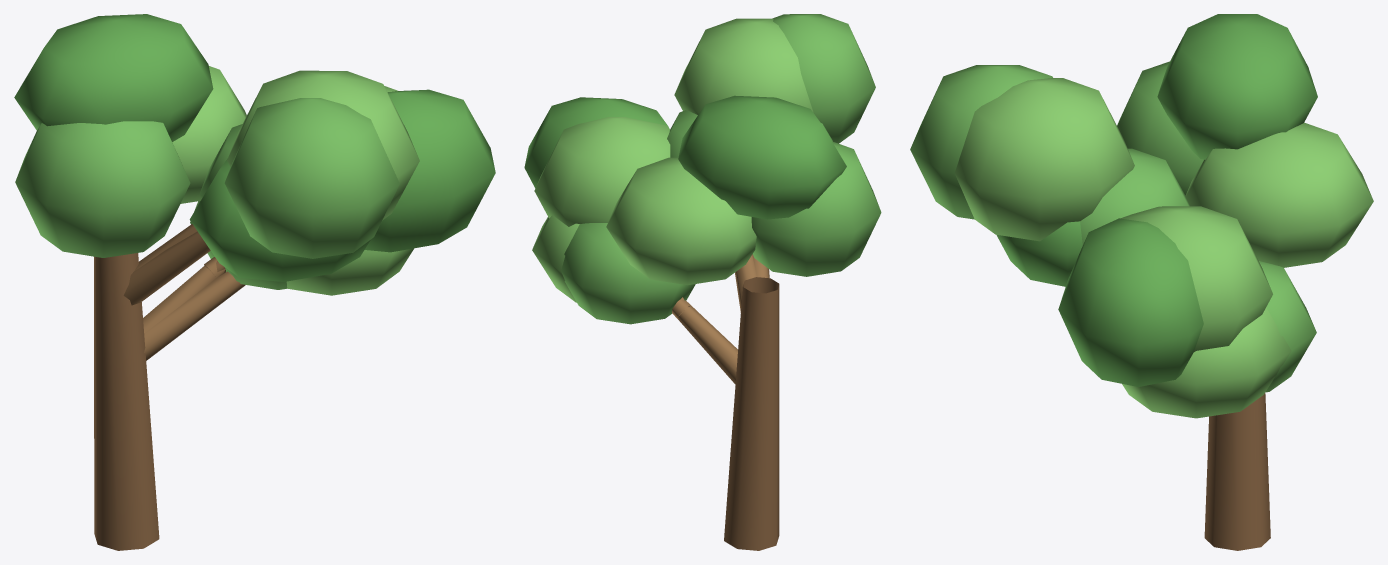
The model's file is tree_deciduous_01.glb.
3 renders of one model, left to right at view 1: azimuth 30°, elevation 25°; view 2: azimuth 150°, elevation 25°; view 3: azimuth 270°, elevation 25°, orthographic. The views are drawn at different scales.
Size of the model in its own units: 0.9557 by 1.1 by 0.9098.
